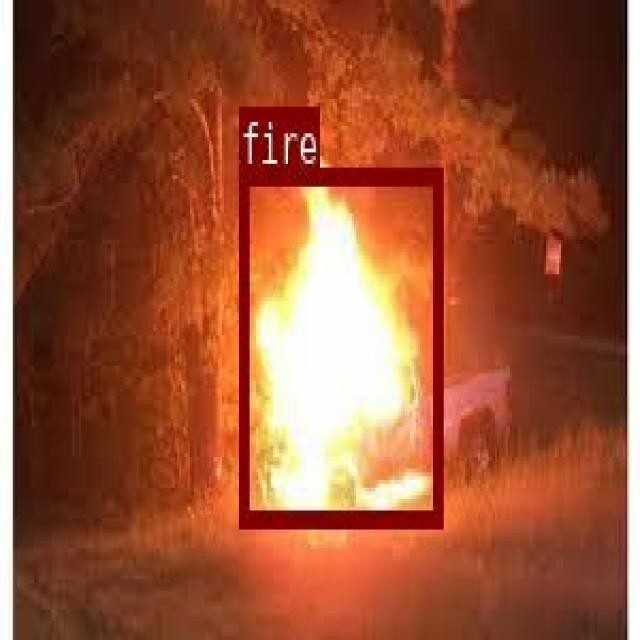fire: (237, 164, 440, 522)
